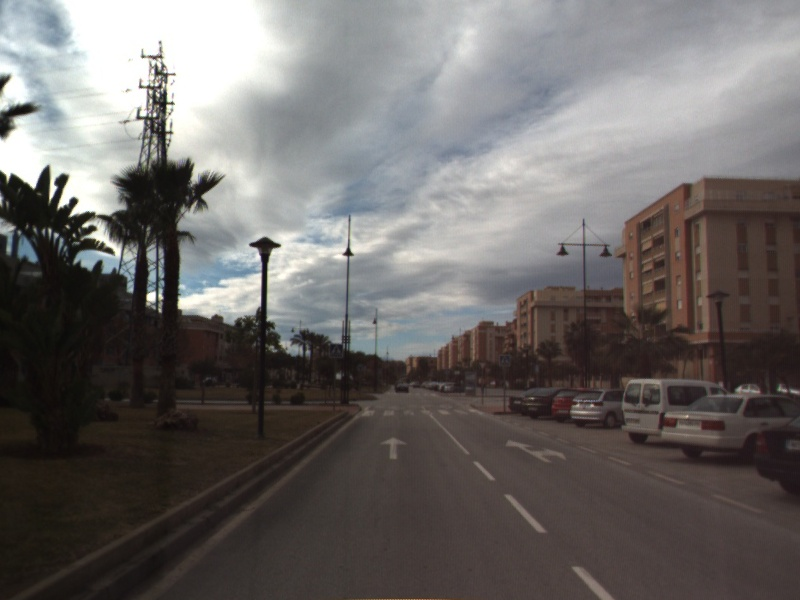STRAIGHT: (378, 435, 409, 461)
STRAIGHT_RIGHT: (504, 438, 568, 465)
